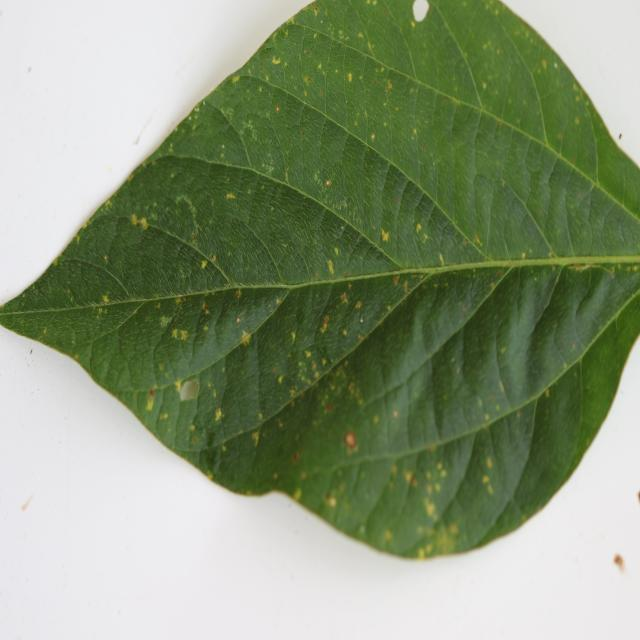Soybean: (0, 0, 640, 563)
downey_mildew: (285, 253, 640, 552), (383, 8, 635, 268), (100, 269, 333, 447), (37, 253, 627, 316), (232, 44, 390, 244), (173, 159, 368, 290), (387, 395, 540, 555), (323, 313, 468, 473), (349, 12, 451, 237), (512, 12, 618, 192), (404, 271, 519, 416), (7, 244, 154, 357), (462, 106, 562, 256), (353, 156, 473, 277), (507, 349, 587, 521), (559, 291, 636, 465), (488, 271, 564, 413), (101, 221, 225, 306), (411, 5, 489, 139), (9, 283, 254, 325), (199, 303, 268, 451), (305, 269, 394, 373), (309, 193, 417, 275), (349, 255, 636, 284), (158, 170, 242, 266), (177, 100, 269, 187), (328, 443, 407, 541), (494, 25, 547, 157), (431, 83, 473, 248), (88, 307, 153, 404), (334, 3, 412, 79), (219, 73, 292, 154), (579, 174, 639, 261), (211, 211, 289, 276), (552, 77, 598, 179), (333, 130, 376, 236), (149, 350, 194, 447), (296, 264, 459, 288), (264, 23, 326, 85), (543, 153, 581, 252), (313, 107, 351, 186), (197, 266, 304, 294), (8, 297, 142, 318), (320, 47, 355, 123), (479, 254, 635, 271), (303, 29, 338, 98), (92, 257, 141, 303), (473, 172, 499, 257), (114, 375, 207, 397), (278, 82, 310, 143), (0, 303, 59, 321), (85, 296, 136, 313), (198, 444, 220, 475), (337, 224, 346, 235)
